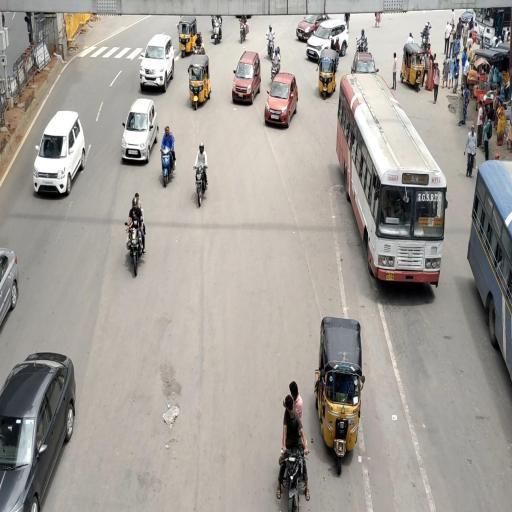helmet: (189, 134, 242, 212), (126, 188, 148, 249)
no helmet: (277, 366, 321, 481)
